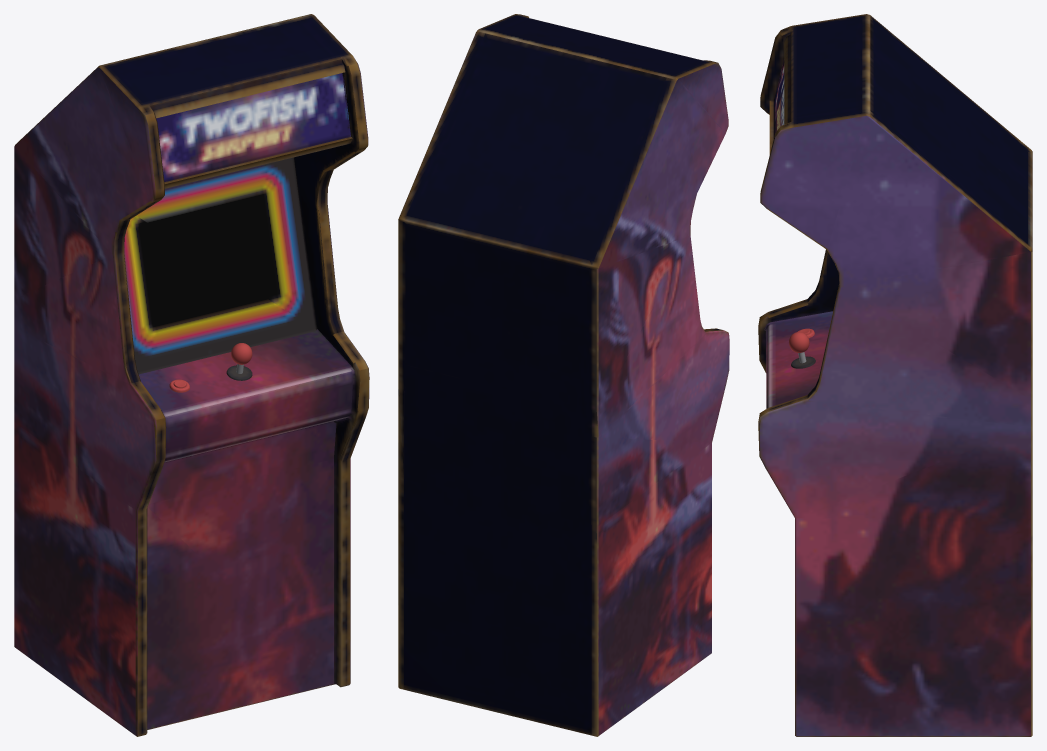
The model's file is arcade_cabinet.glb.
The picture shows the model from 3 angles, left to right: view 1: azimuth 30°, elevation 25°; view 2: azimuth 150°, elevation 25°; view 3: azimuth 270°, elevation 25°; orthographic projection. The views are drawn at different scales.
Parts seen in each view (by area): view 1: mesh; view 2: mesh; view 3: mesh.
Part boxes in pixels (x1,y1,x2,y2): mesh: (14, 14, 369, 736); mesh: (398, 14, 729, 736); mesh: (758, 14, 1032, 736).
Size of the model in its own units: 0.5844 by 1.67 by 0.6685.
Materials: 1 (1 with a texture image).
